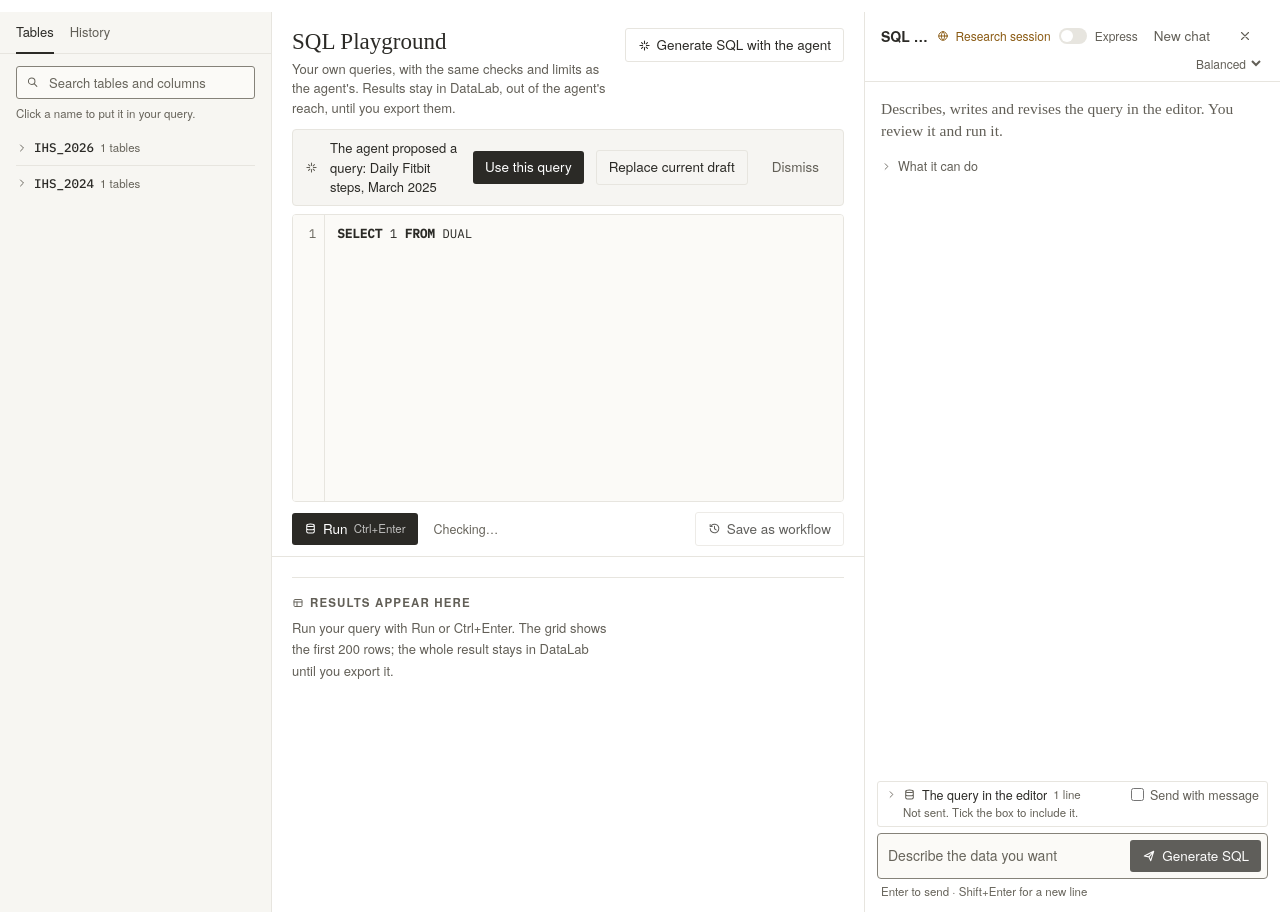
Scenario: replaces the draft only when asked, and Dismiss leaves it
The width and height of the screenshot is (1280, 912).
Click the button "Dismiss" at (795, 168), box [760,151,831,184]
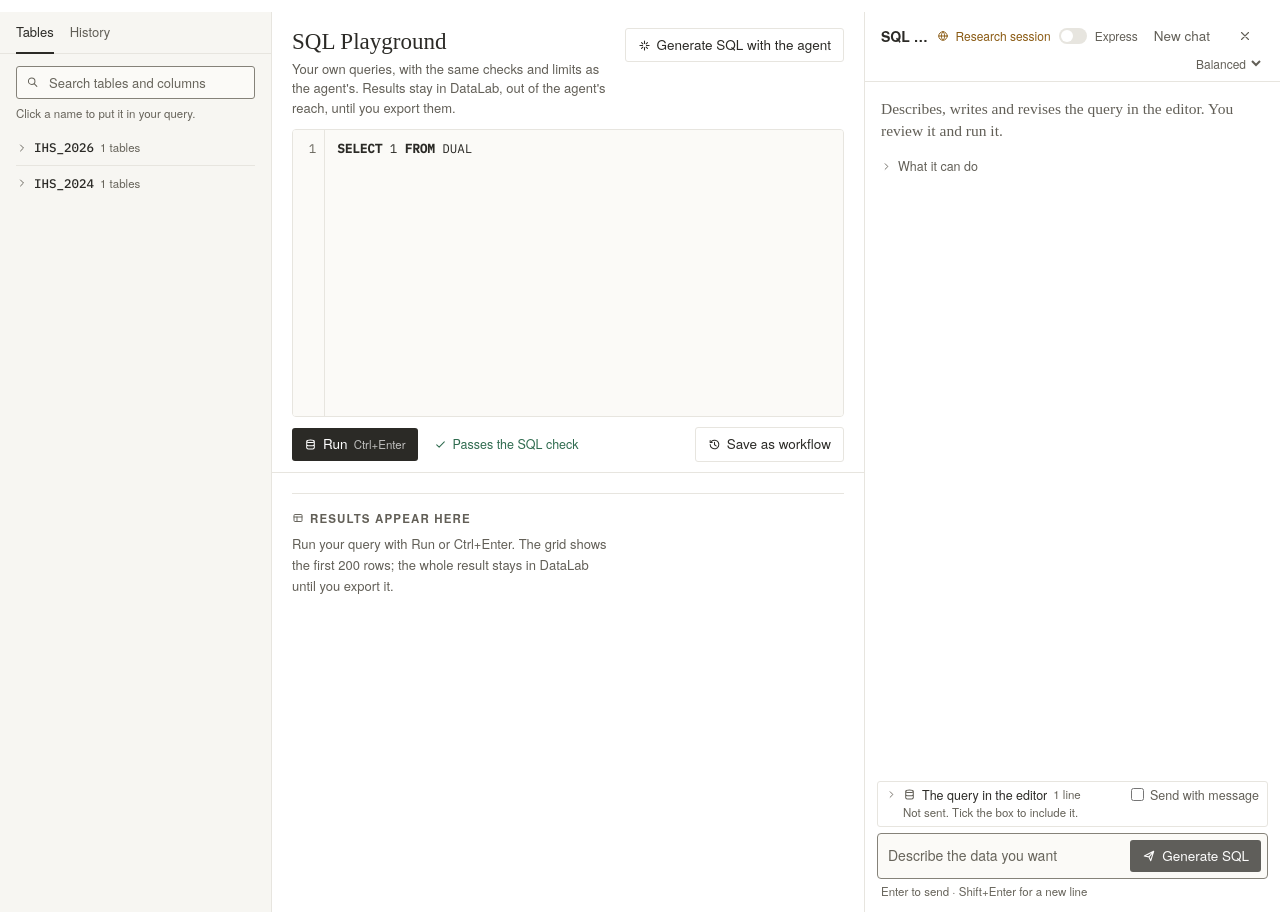
Expected: the text box labelled "SELECT 1 FROM DUAL" is shown, [337,140,472,156]
Result: the message "The agent proposed a query" is gone
